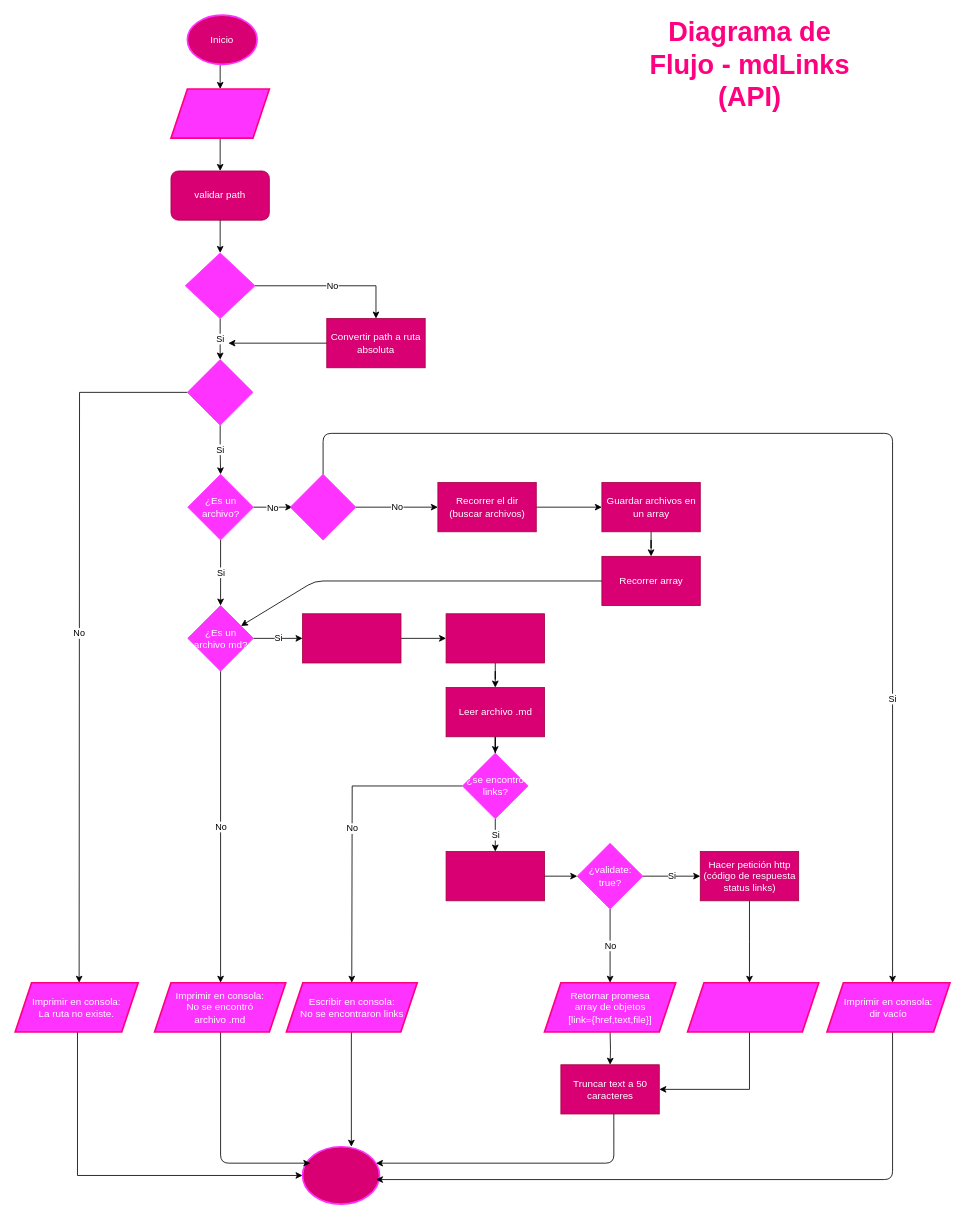
The diagram is 964 pixels wide and 1219 high, and some of its shapes have lost their labels. The shapes that lost their labels are listed below. From the top down, each one's box as (x1, y1, x2, y2) in pixels, then its label:
(170, 88, 270, 139): MdLinks (path,options)
(184, 252, 255, 319): ¿Path es abdoluta?
(187, 359, 253, 425): ¿El path existe?
(289, 474, 356, 540): ¿dir vacío?
(302, 613, 401, 663): Guardar path archivo .md
(445, 613, 544, 663): Recorre array de archivos .md
(445, 851, 544, 901): Extraer links de los archivos .md
(686, 982, 819, 1032): Retornar promesa array de objetos [link={href,text,file,status,ok}]
(301, 1146, 380, 1205): Fin
